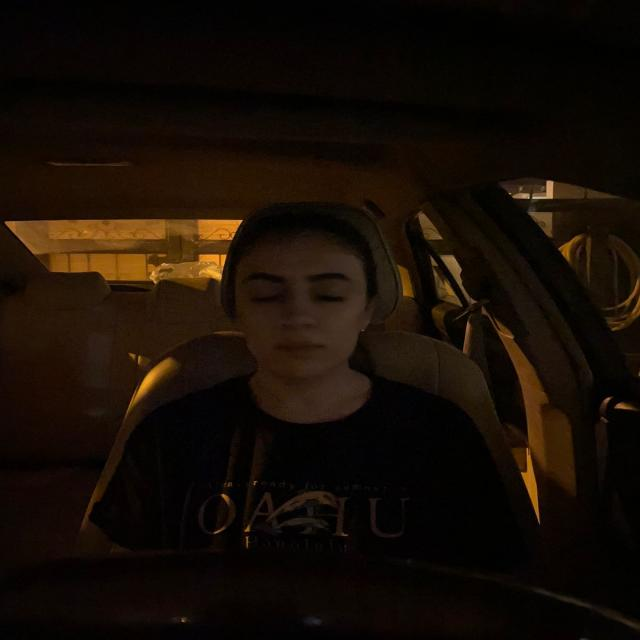drowsy: (218, 201, 404, 400)
